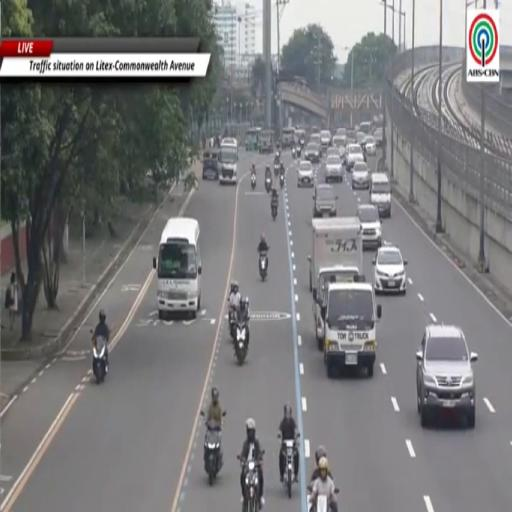bus: (153, 218, 201, 319)
car: (416, 324, 477, 428), (373, 244, 407, 294), (358, 204, 381, 248), (370, 172, 391, 217), (313, 184, 337, 217), (325, 155, 344, 183), (351, 162, 370, 190), (346, 144, 363, 170), (298, 160, 314, 187), (304, 142, 320, 163), (320, 130, 332, 154), (333, 136, 346, 157), (364, 136, 376, 155), (374, 127, 383, 147), (309, 133, 320, 146), (347, 130, 356, 145), (357, 132, 366, 145), (327, 148, 339, 156), (336, 127, 346, 136)
motorcycle: (237, 456, 259, 511), (204, 422, 223, 485), (282, 440, 296, 498), (93, 336, 107, 383), (235, 323, 248, 364), (309, 494, 332, 511), (228, 308, 236, 341), (259, 252, 267, 281), (265, 176, 272, 193), (271, 202, 277, 220), (251, 173, 256, 189), (274, 163, 279, 177), (280, 174, 284, 188), (300, 138, 305, 148), (297, 147, 301, 157), (292, 148, 296, 158)
truck: (309, 217, 362, 349), (321, 277, 381, 377), (308, 217, 362, 293), (313, 265, 361, 350), (218, 138, 238, 184), (259, 131, 273, 153), (282, 127, 295, 149)
